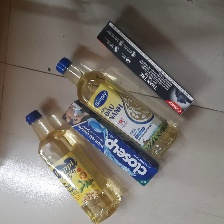CloseUp Tuyet: (60, 100, 159, 185)
Colgate Than: (96, 20, 195, 115)
Happy Soya: (24, 109, 122, 224)
Simply: (56, 57, 180, 157)
